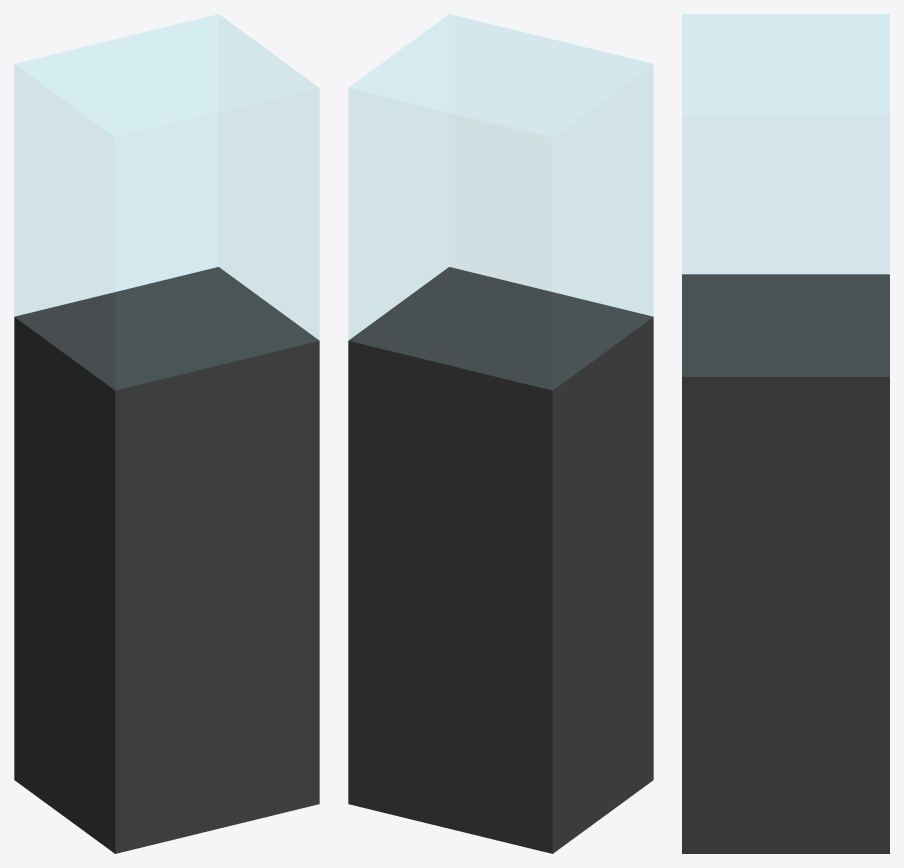
File: large_box.glb
3 renders of one model, left to right at view 1: azimuth 30°, elevation 25°; view 2: azimuth 150°, elevation 25°; view 3: azimuth 270°, elevation 25°, orthographic. The views are drawn at different scales.
Parts seen in each view (by area): view 1: Cube.004; view 2: Cube.004; view 3: Cube.004.
Part boxes in pixels (left/top/right/bottom): Cube.004: left=14, top=14, right=319, bottom=853; Cube.004: left=348, top=14, right=653, bottom=853; Cube.004: left=682, top=14, right=889, bottom=853.
Bounding box in the file's own units: 0.3562 × 1.19 × 0.3048.
